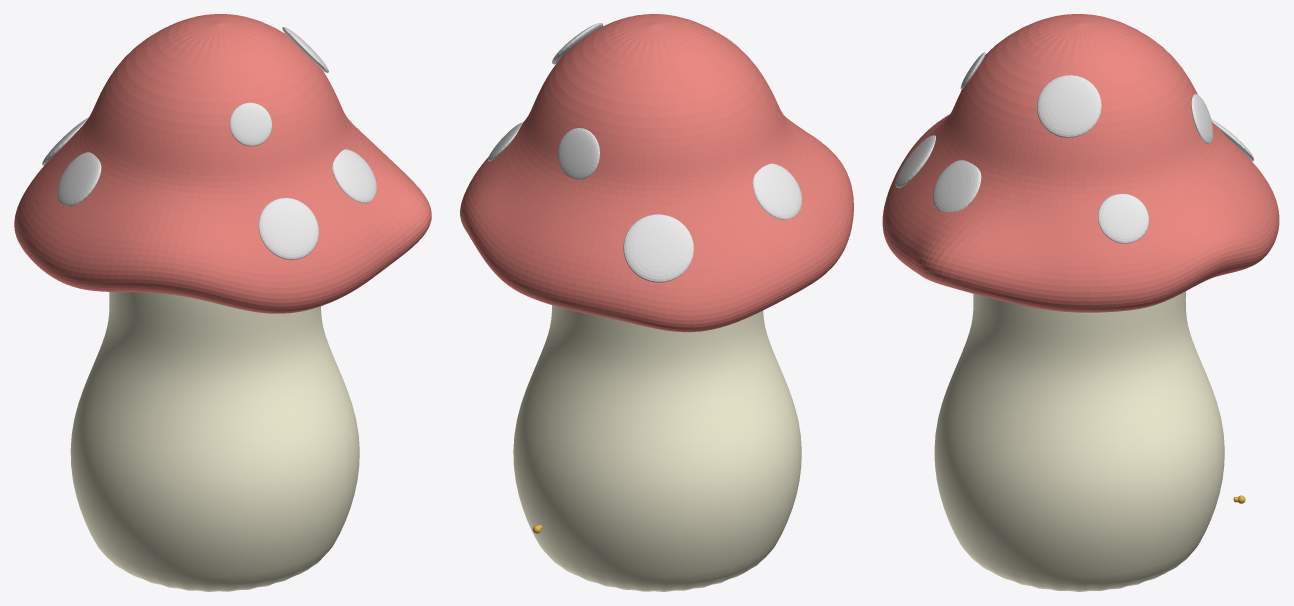
File: Mushroom.fbx
The picture shows the model from 3 angles, left to right: view 1: azimuth 30°, elevation 25°; view 2: azimuth 150°, elevation 25°; view 3: azimuth 270°, elevation 25°; orthographic projection.
Visible parts, largest first — view 1: Sphere.001, Sphere, Sphere.007, Sphere.009, Sphere.002, Sphere.008; view 2: Sphere.001, Sphere, Sphere.003, Sphere.002, Sphere.004; view 3: Sphere.001, Sphere, Sphere.006, Sphere.005, Sphere.009, Sphere.007, Sphere.004.
Boxes of the visible parts, x1,y1,x2,y2 form: Sphere.001: (14,14,431,313); Sphere: (70,292,359,591); Sphere.007: (258,198,318,259); Sphere.009: (332,149,376,203); Sphere.002: (57,152,101,206); Sphere.008: (229,102,272,146); Sphere.001: (460,14,853,332); Sphere: (513,305,801,591); Sphere.003: (623,214,693,282); Sphere.002: (752,163,801,219); Sphere.004: (557,128,599,179); Sphere.001: (882,14,1279,312); Sphere: (934,291,1224,591); Sphere.006: (1037,75,1101,137); Sphere.005: (1098,194,1148,243); Sphere.009: (933,160,981,212); Sphere.007: (895,135,935,187); Sphere.004: (1191,94,1213,143).
Size of the model in its own units: 267 by 400 by 267.
